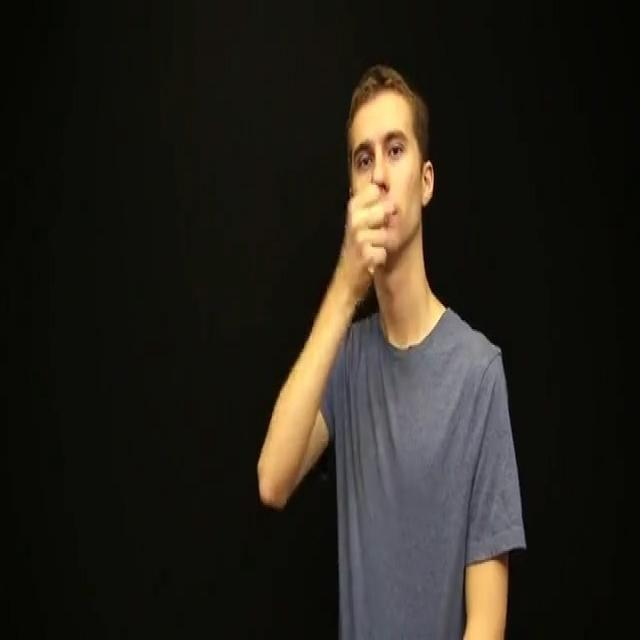icecream: (325, 172, 401, 320)
